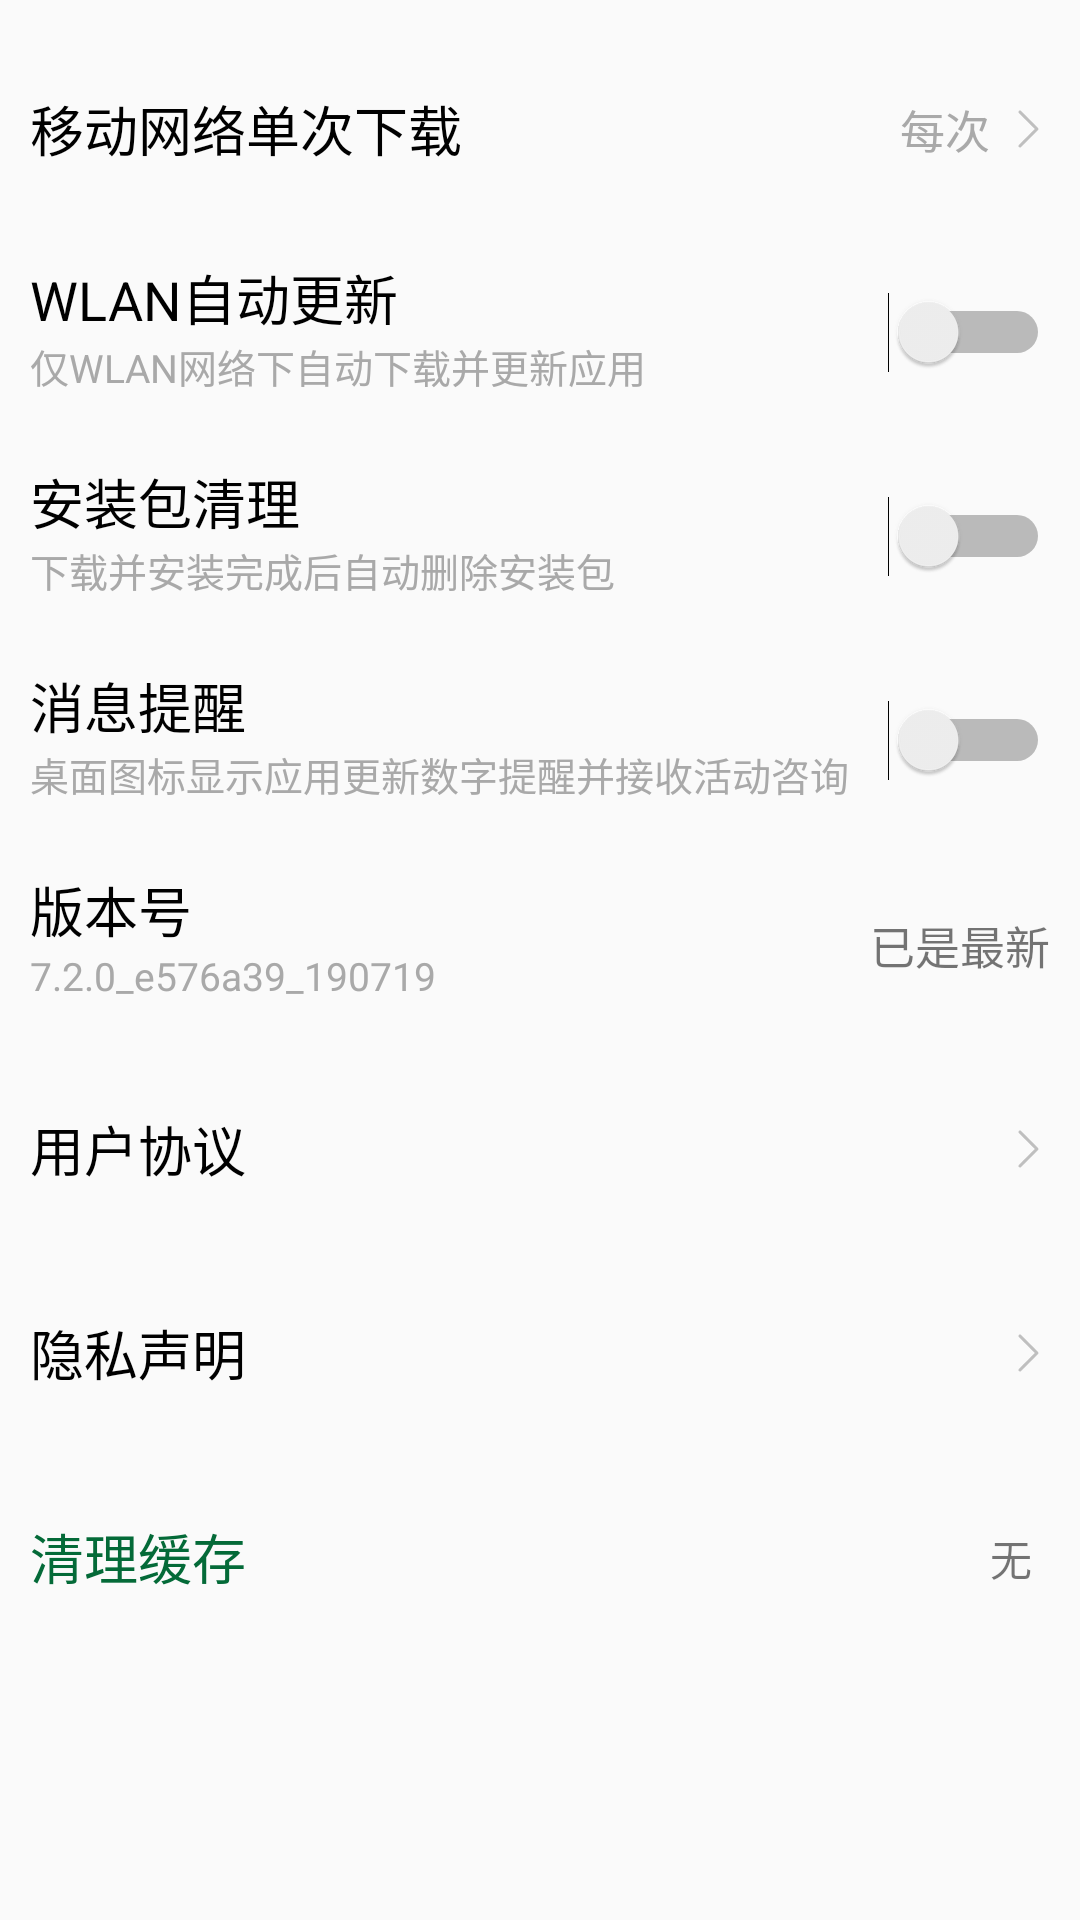

Point at icon controls on the screen. Image size 1080×1920, points as (x,y).
more: (1028,128), (1028,1148), (1028,1352)
